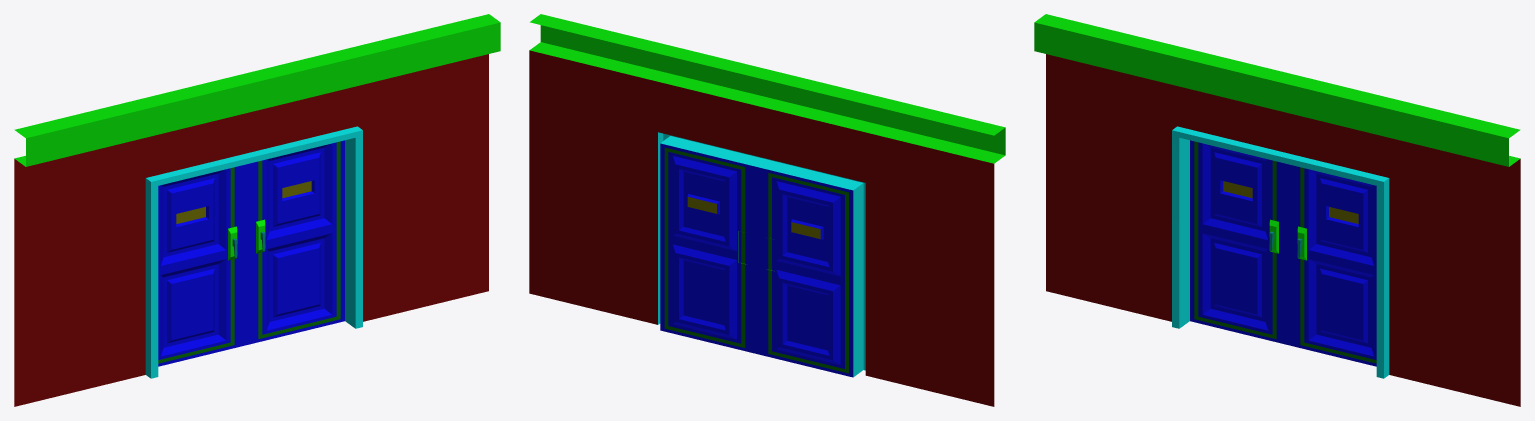
Rendered from Wall_Double_Door - Copy.fbx.
3 views of the same model, side by side, from view 1: azimuth 30°, elevation 25°; view 2: azimuth 150°, elevation 25°; view 3: azimuth 330°, elevation 25° (orthographic). The views are drawn at different scales.
Visible parts, largest first — view 1: Build_2_Double_Door3; view 2: Build_2_Double_Door3; view 3: Build_2_Double_Door3.
Part boxes in pixels (x1,y1,x2,y2): Build_2_Double_Door3: (14,14,500,406); Build_2_Double_Door3: (529,14,1005,406); Build_2_Double_Door3: (1034,14,1520,406).
Bounding box in the file's own units: 520 × 36.72 × 290.
